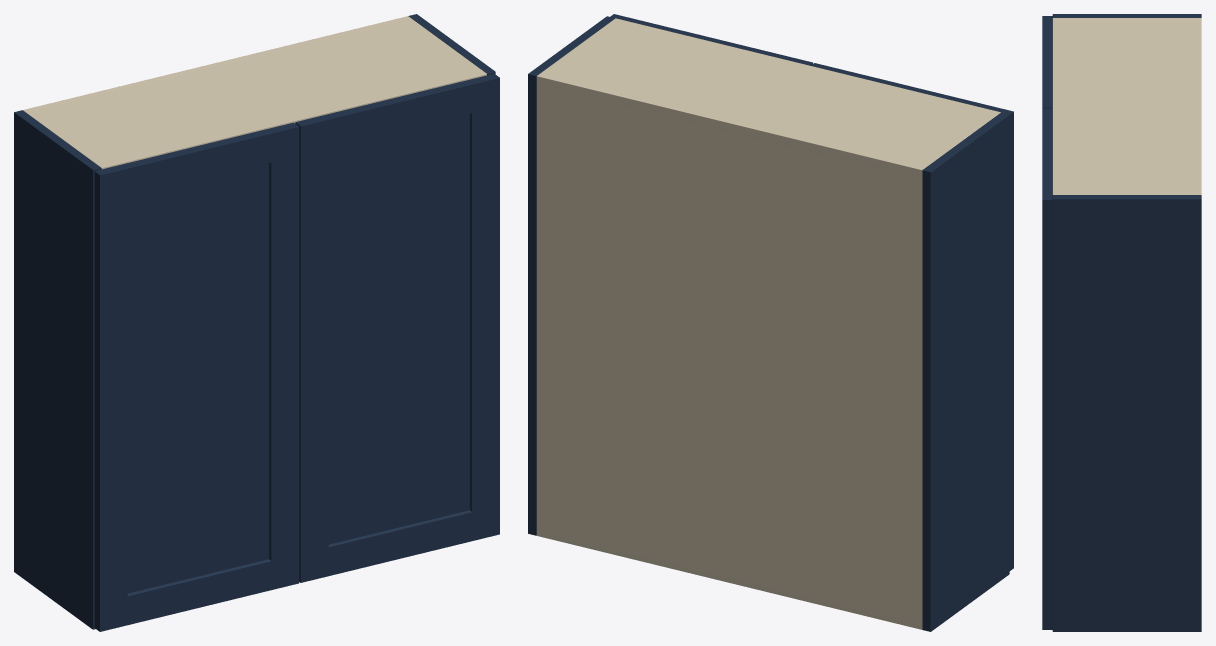
File: oppein-ply-bss-w3336.glb
The picture shows the model from 3 angles, left to right: view 1: azimuth 30°, elevation 25°; view 2: azimuth 150°, elevation 25°; view 3: azimuth 270°, elevation 25°; orthographic projection. The views are drawn at different scales.
Parts seen in each view (by area): view 1: Door, Door.001, Cabinet side, Cabinet top, Cabinet back, Cabinet side.001; view 2: Cabinet back, Cabinet side, Cabinet top, Cabinet side.001, Cabinet bottom, Door, Door.001; view 3: Cabinet side.001, Cabinet top, Door.001, Cabinet back, Door, Cabinet side.
Part boxes in pixels (<box>): Door: <box>94,122,299,631</box>; Door.001: <box>295,73,499,582</box>; Cabinet side: <box>14,110,101,629</box>; Cabinet top: <box>26,18,486,169</box>; Cabinet back: <box>23,16,410,112</box>; Cabinet side.001: <box>408,14,495,75</box>; Cabinet back: <box>536,74,924,629</box>; Cabinet side: <box>922,112,1009,631</box>; Cabinet top: <box>536,18,1000,178</box>; Cabinet side.001: <box>528,16,614,535</box>; Cabinet bottom: <box>537,527,922,629</box>; Door: <box>811,63,1013,570</box>; Door.001: <box>610,14,813,65</box>; Cabinet side.001: <box>1052,195,1201,631</box>; Cabinet top: <box>1052,18,1201,194</box>; Door.001: <box>1042,108,1052,629</box>; Cabinet back: <box>1195,18,1201,194</box>; Door: <box>1042,16,1052,108</box>; Cabinet side: <box>1052,14,1201,17</box>.
Size of the model in its own units: 0.8382 by 0.9144 by 0.3048.
